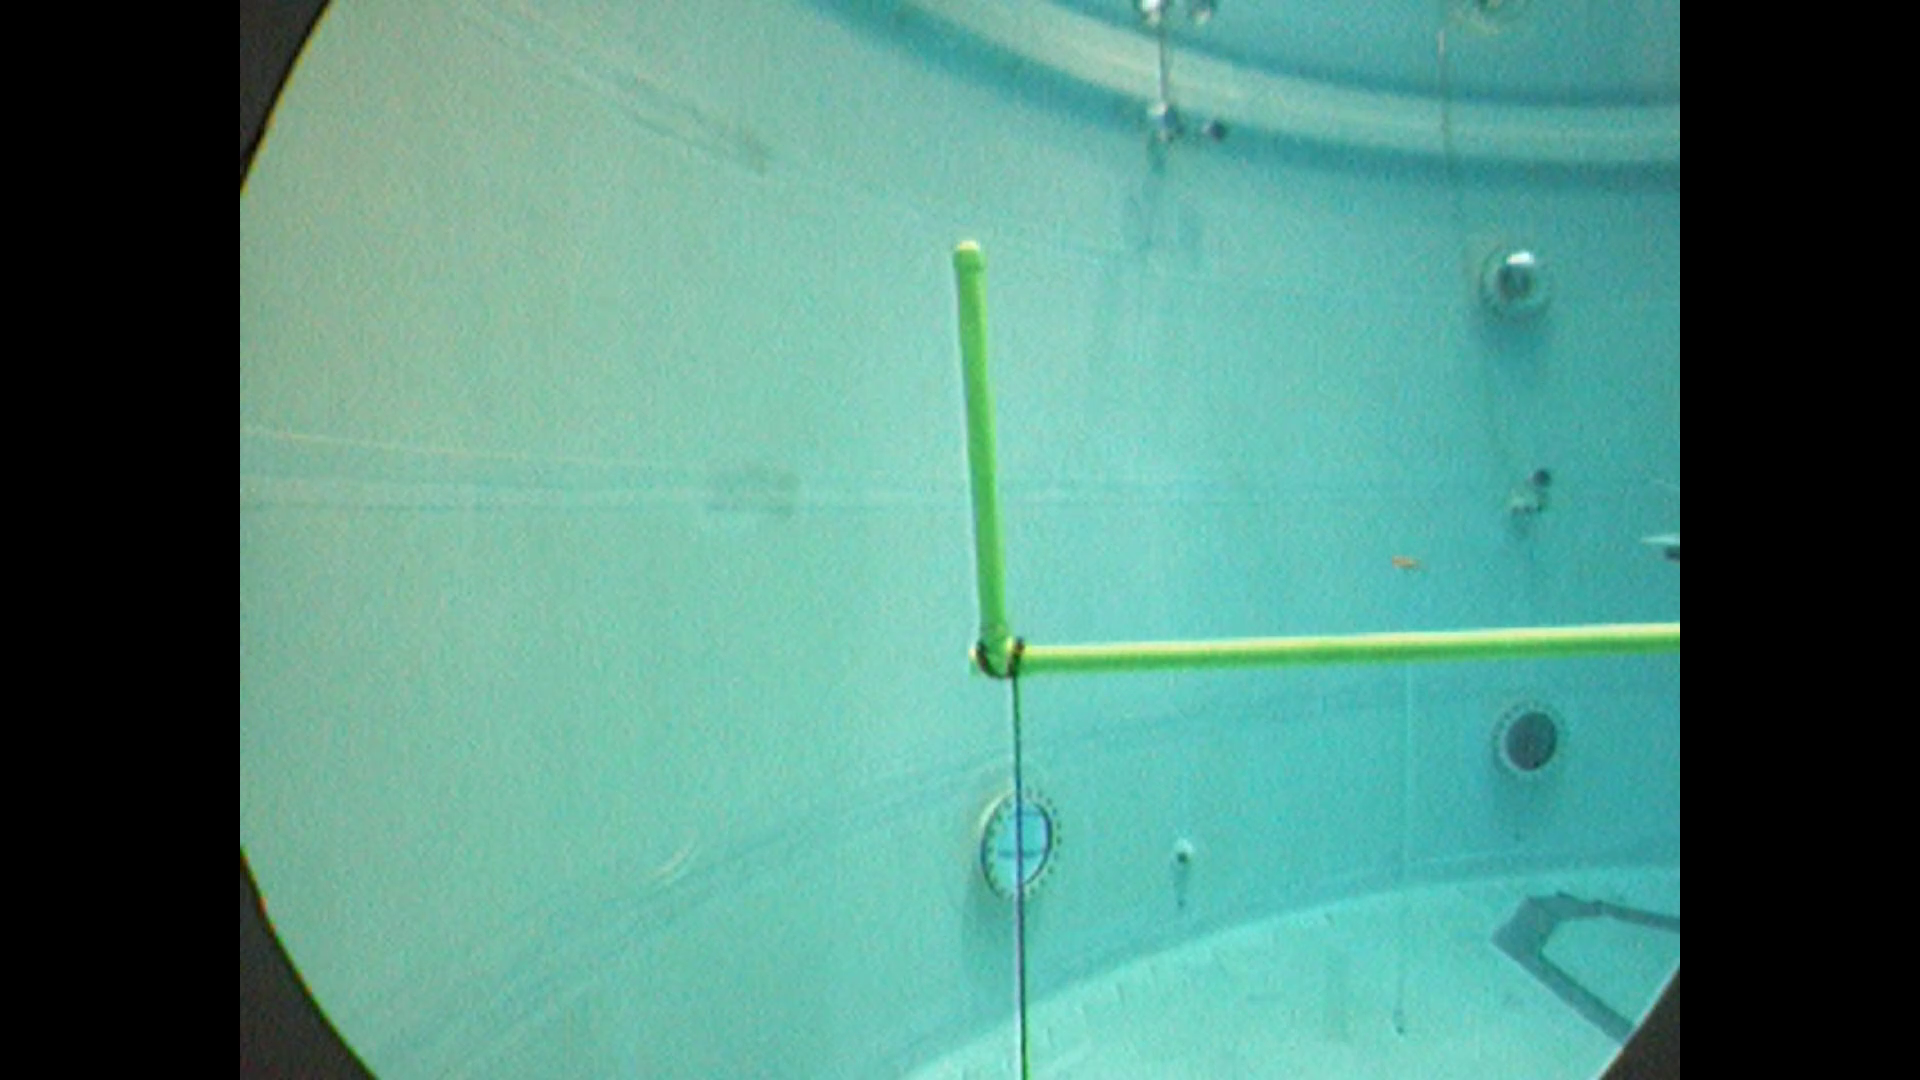gate: (944, 235, 1681, 676)
